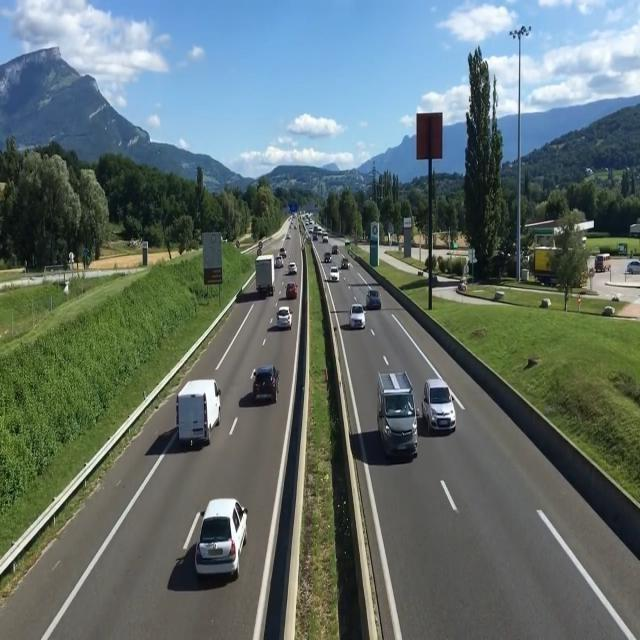Car: (196, 498, 249, 584), (377, 372, 420, 457), (422, 379, 456, 433), (252, 364, 279, 402), (349, 303, 366, 329), (276, 306, 293, 329), (365, 289, 381, 310), (285, 282, 298, 300), (329, 266, 340, 281), (288, 262, 298, 275), (341, 258, 350, 270), (323, 252, 332, 263)
Truck: (255, 254, 275, 296)
Van: (176, 380, 220, 446)
